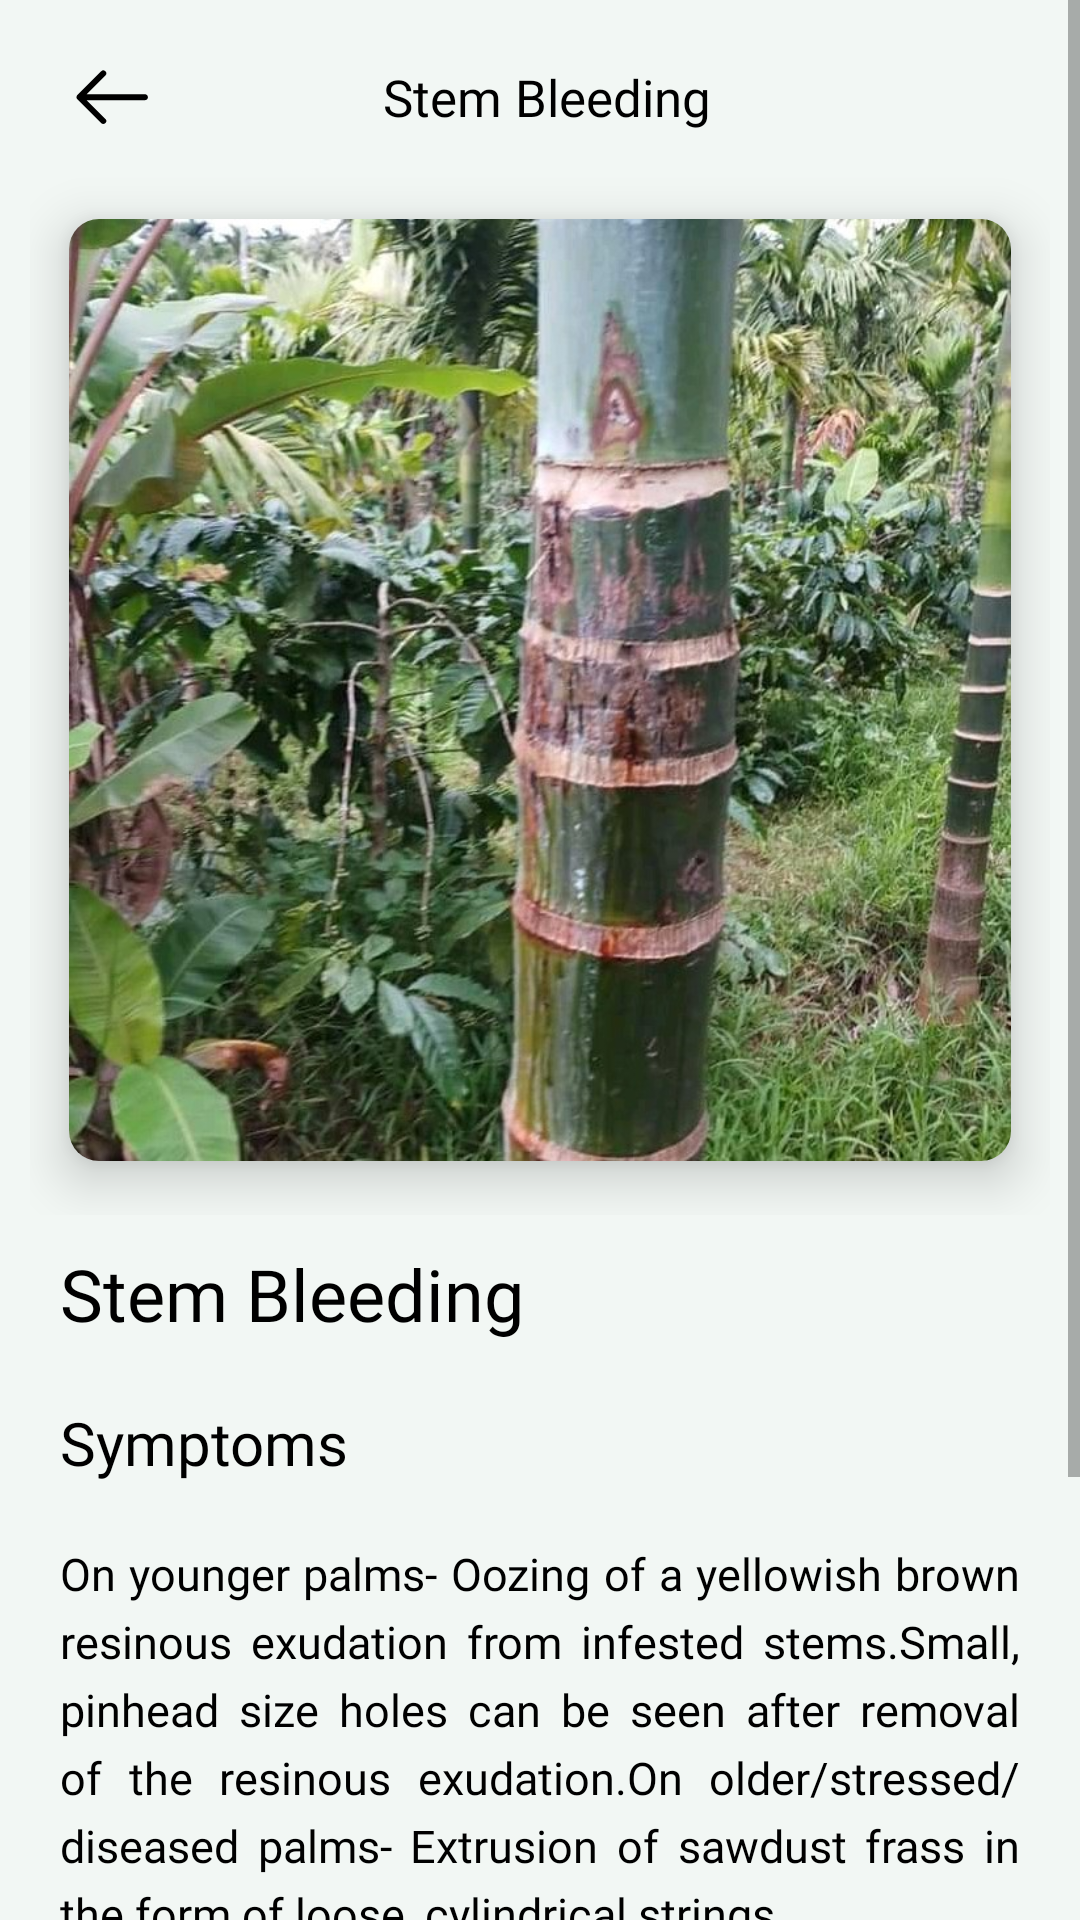

Where to tap for icons on this 1080px x 1920px app screen, as point (x, y):
back: point (112, 97)
